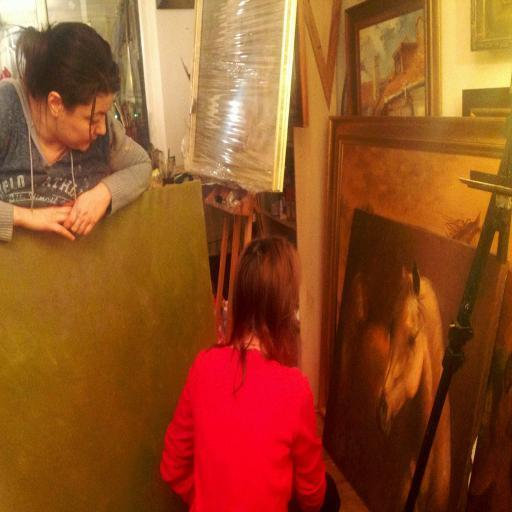horse: (374, 260, 454, 512)
